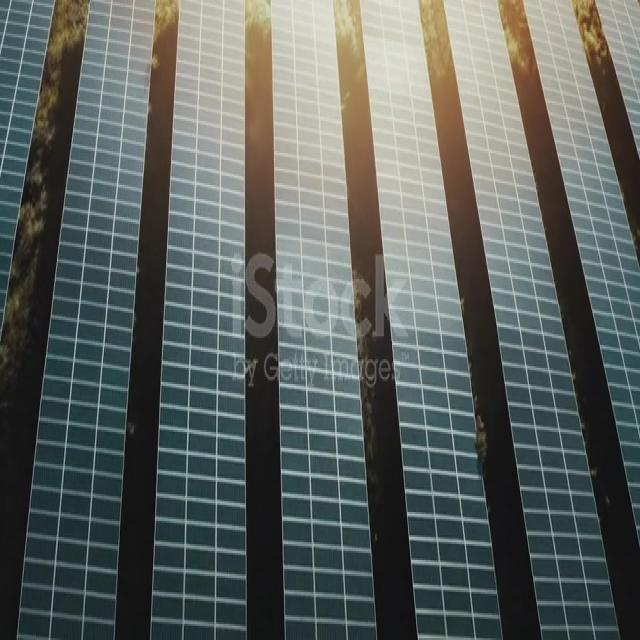solar-panel: (363, 2, 488, 613), (272, 2, 360, 640), (523, 1, 640, 413), (176, 8, 247, 631), (49, 4, 109, 640), (1, 1, 41, 283)
